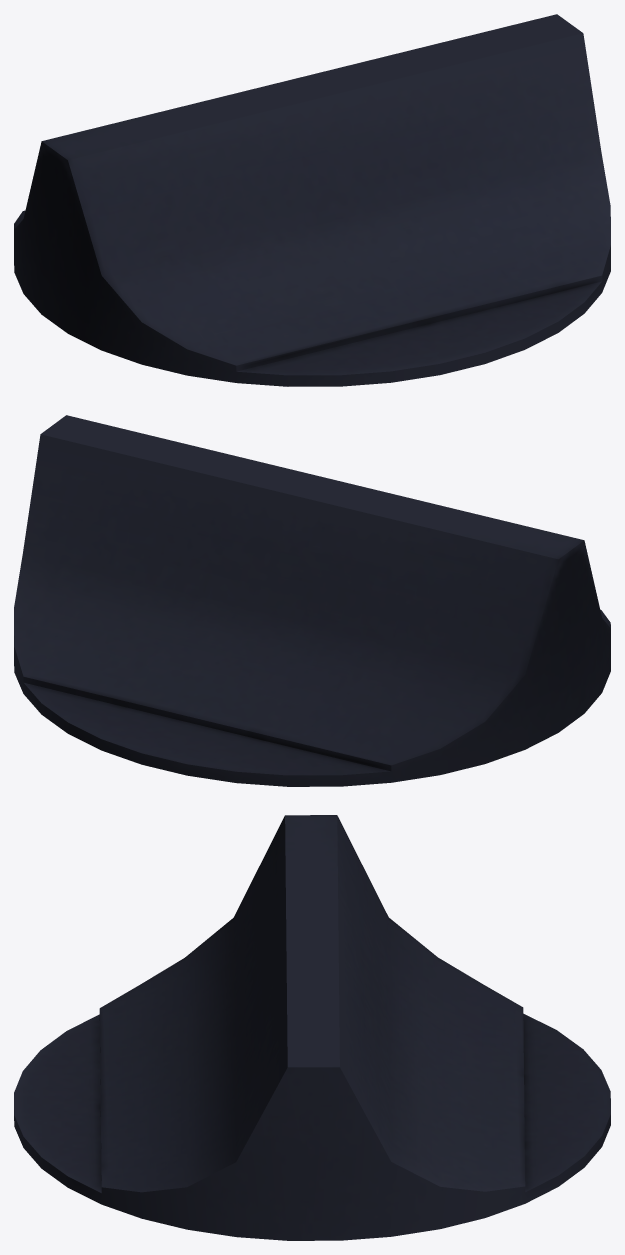
Rendered from Dial 3.fbx.
The picture shows the model from 3 angles, top to bottom: view 1: azimuth 30°, elevation 25°; view 2: azimuth 150°, elevation 25°; view 3: azimuth 270°, elevation 25°; orthographic projection.
Visible parts, largest first — view 1: Dial_3; view 2: Dial_3; view 3: Dial_3.
Boxes of the visible parts, <box> form: Dial_3: <box>14,14,610,386</box>; Dial_3: <box>14,415,610,786</box>; Dial_3: <box>14,815,610,1240</box>.
Bounding box in the file's own units: 3.51 × 1.13 × 3.51.
